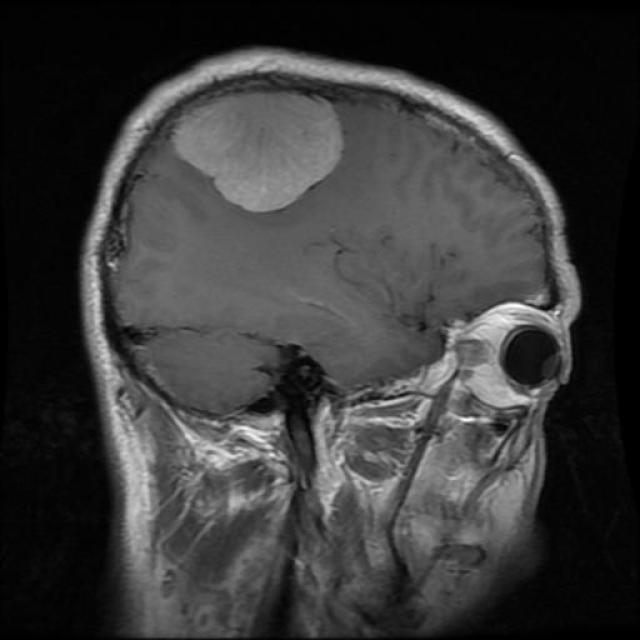meningioma: (174, 91, 342, 212)
